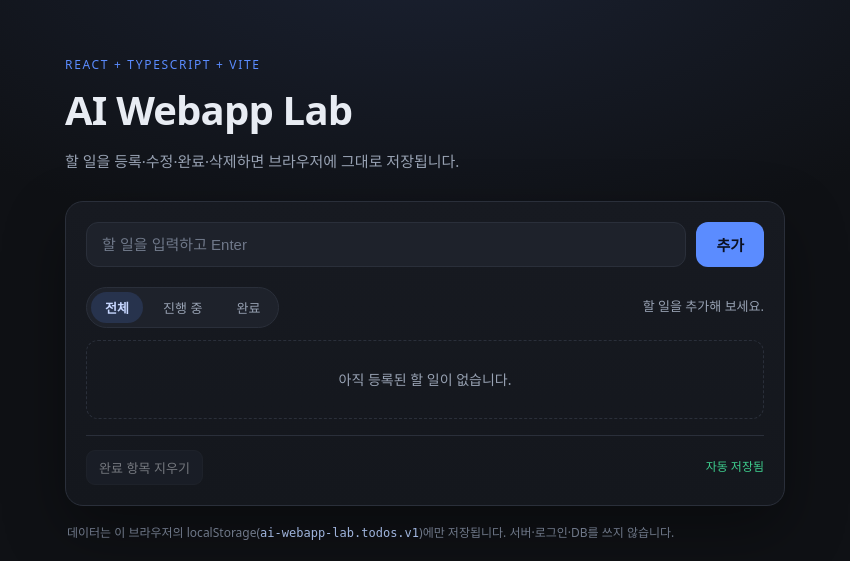
AI Webapp Lab — 할 일 관리 › 수정 내용이 비어 있으면 저장하지 않고 오류를 보여 준다
This screenshot has width=850, height=561.
Step 1. Type "청소" into the field with test id "todo-input" → (386, 244), box [86, 222, 686, 266]
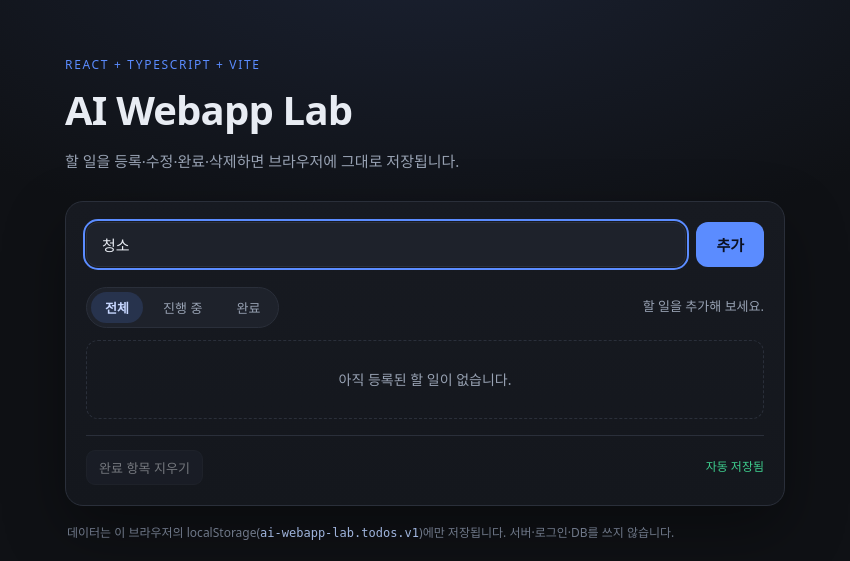
Step 2. Click the button with test id "todo-add" → (730, 244), box [696, 222, 764, 266]
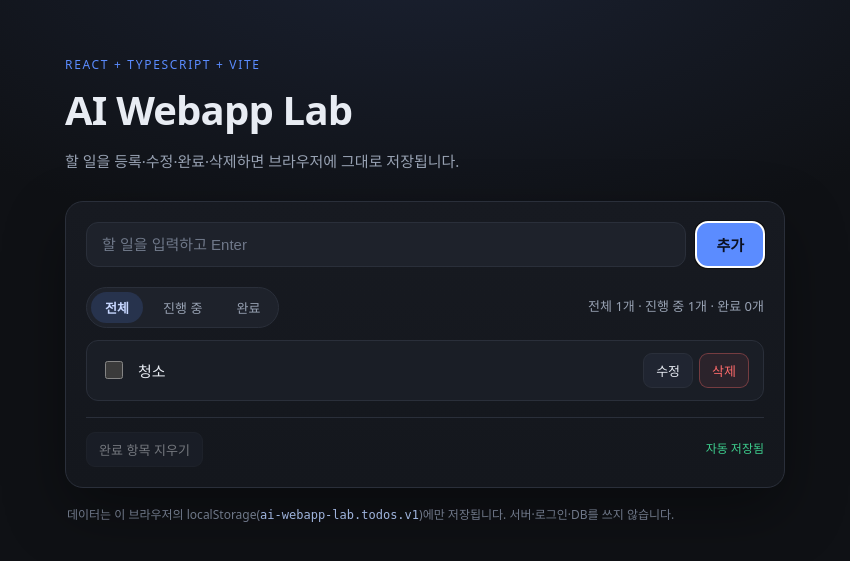
Step 3. Click the button with test id "todo-edit" → (668, 370), box [643, 352, 693, 388]
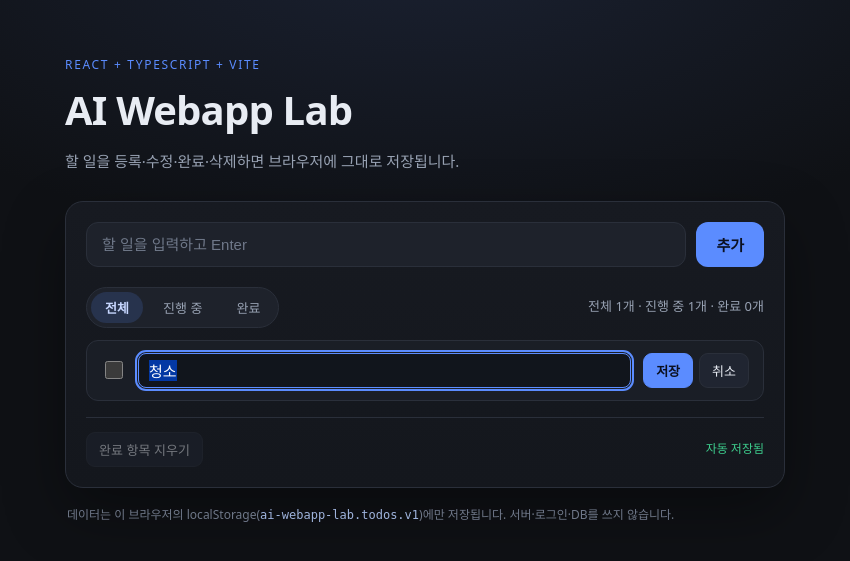
Step 4. Clear the field with test id "todo-edit-input" → (385, 370), box [138, 352, 631, 388]
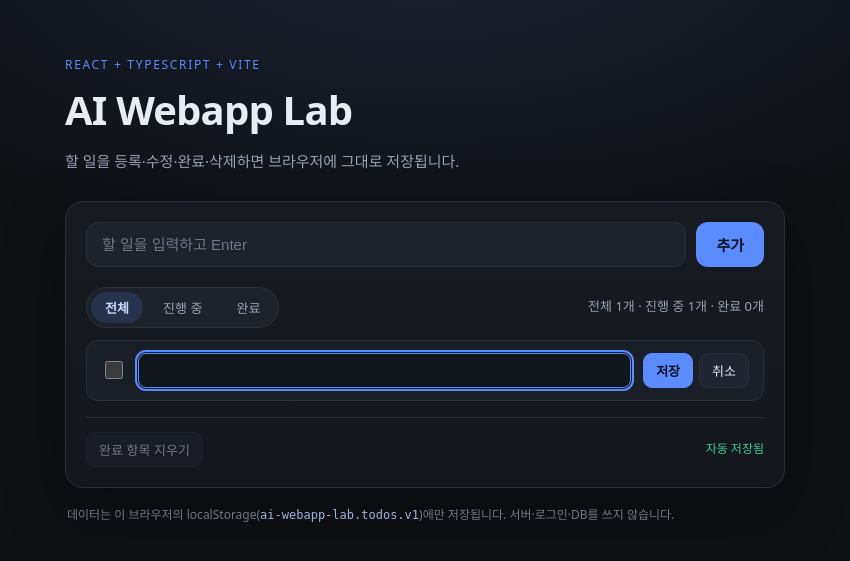
Step 5. Click the button with test id "todo-save" → (668, 370), box [643, 352, 693, 388]
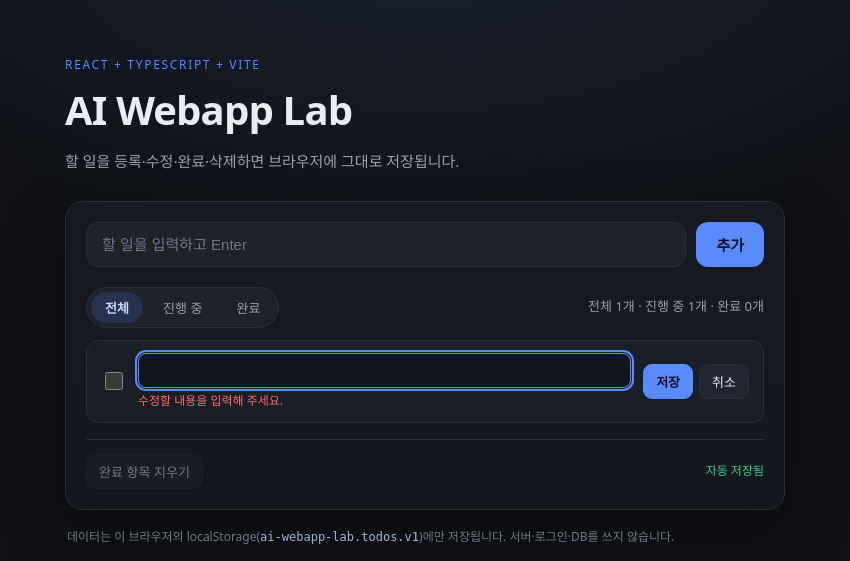
Now the message with test id "todo-edit-error" reads "수정할 내용을 입력해 주세요.", box [138, 392, 283, 408]
